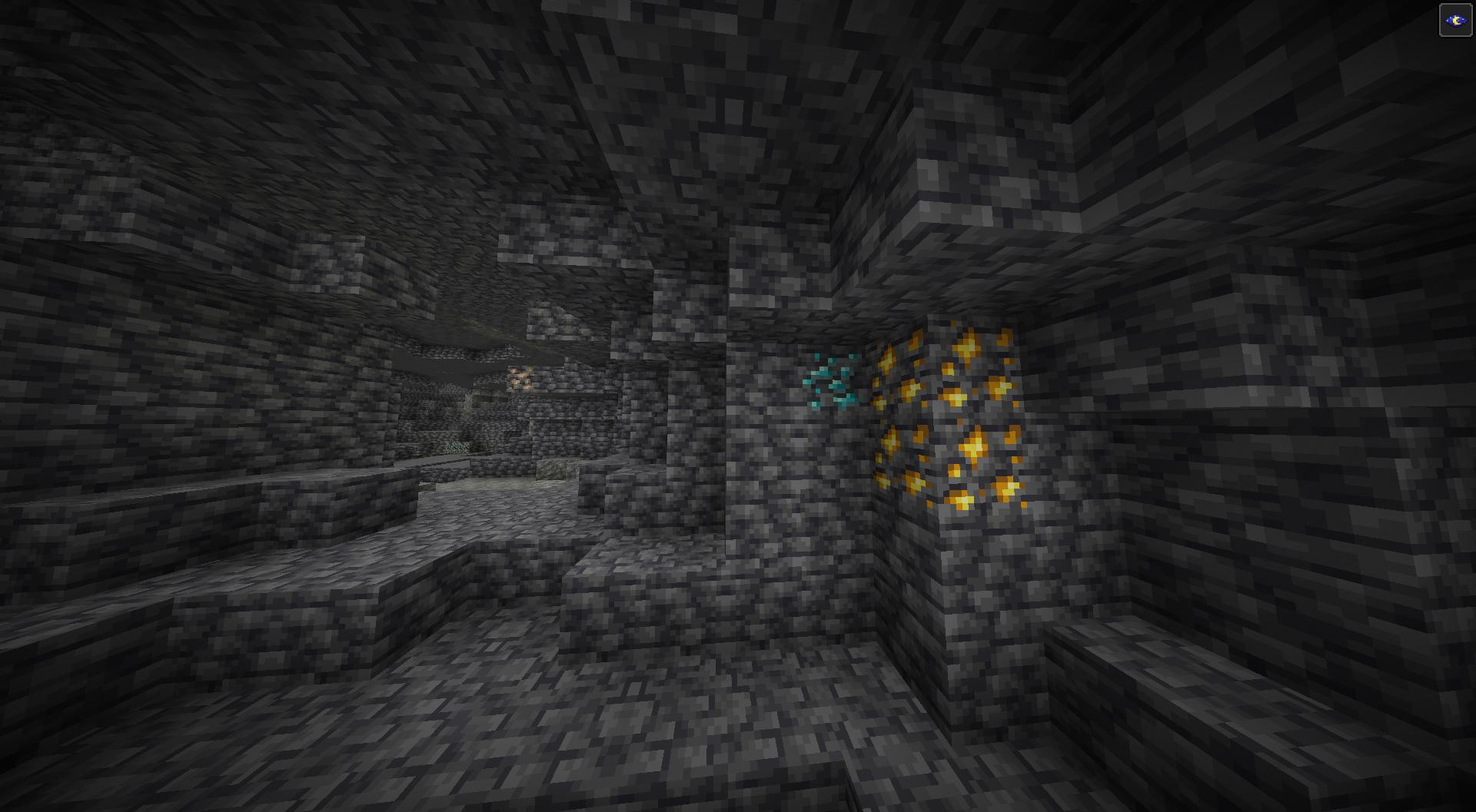diamond ore: (796, 350, 863, 413)
gold ore: (938, 320, 1027, 413), (947, 416, 1031, 510), (874, 410, 940, 508), (869, 333, 932, 412)
iron ore: (503, 362, 539, 391)
